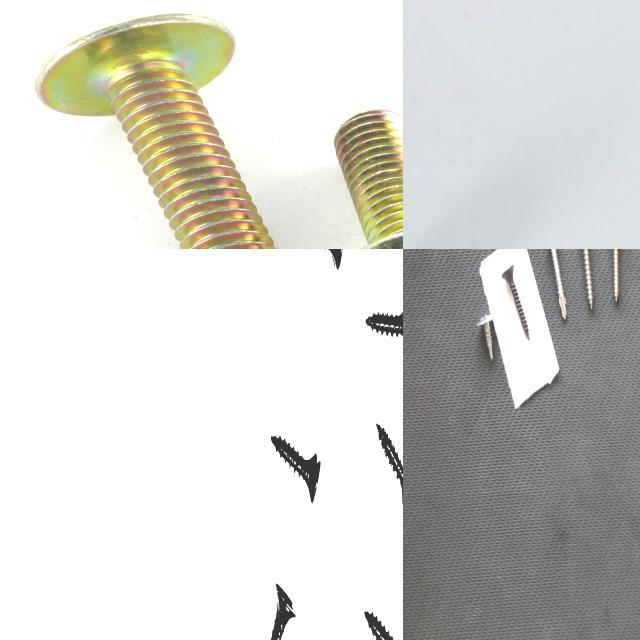Screw: (34, 13, 276, 249), (323, 100, 403, 249), (271, 435, 321, 502), (501, 264, 529, 340), (377, 423, 403, 501), (271, 583, 295, 640), (366, 310, 403, 335), (365, 611, 395, 640), (476, 313, 493, 359), (550, 249, 564, 303), (583, 249, 593, 309), (613, 249, 619, 302), (560, 303, 567, 318)
